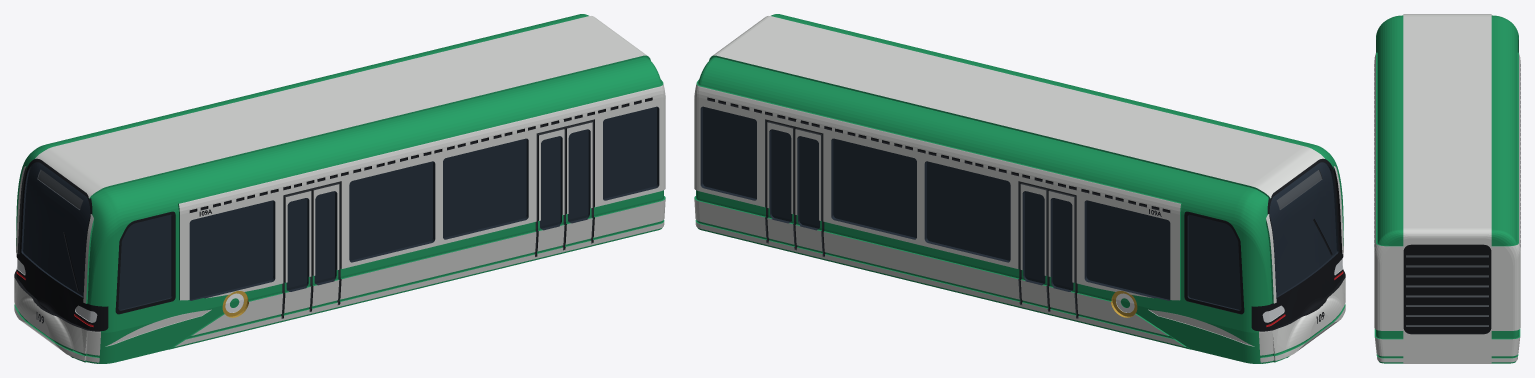
Rendered from addis.glb.
3 views of the same model, side by side, from view 1: azimuth 30°, elevation 25°; view 2: azimuth 150°, elevation 25°; view 3: azimuth 270°, elevation 25° (orthographic). The views are drawn at different scales.
Parts seen in each view (by area): view 1: aalrt_addis; view 2: aalrt_addis; view 3: aalrt_addis.
Boxes of the visible parts, left/top/right/bottom form: aalrt_addis: left=14, top=14, right=665, bottom=363; aalrt_addis: left=694, top=14, right=1345, bottom=363; aalrt_addis: left=1374, top=14, right=1520, bottom=363.
Size of the model in its own units: 150 by 40 by 40.
